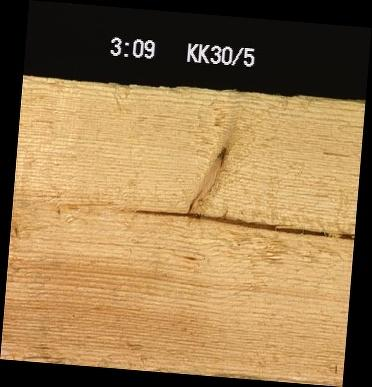small_knot: (10, 222, 27, 237)
